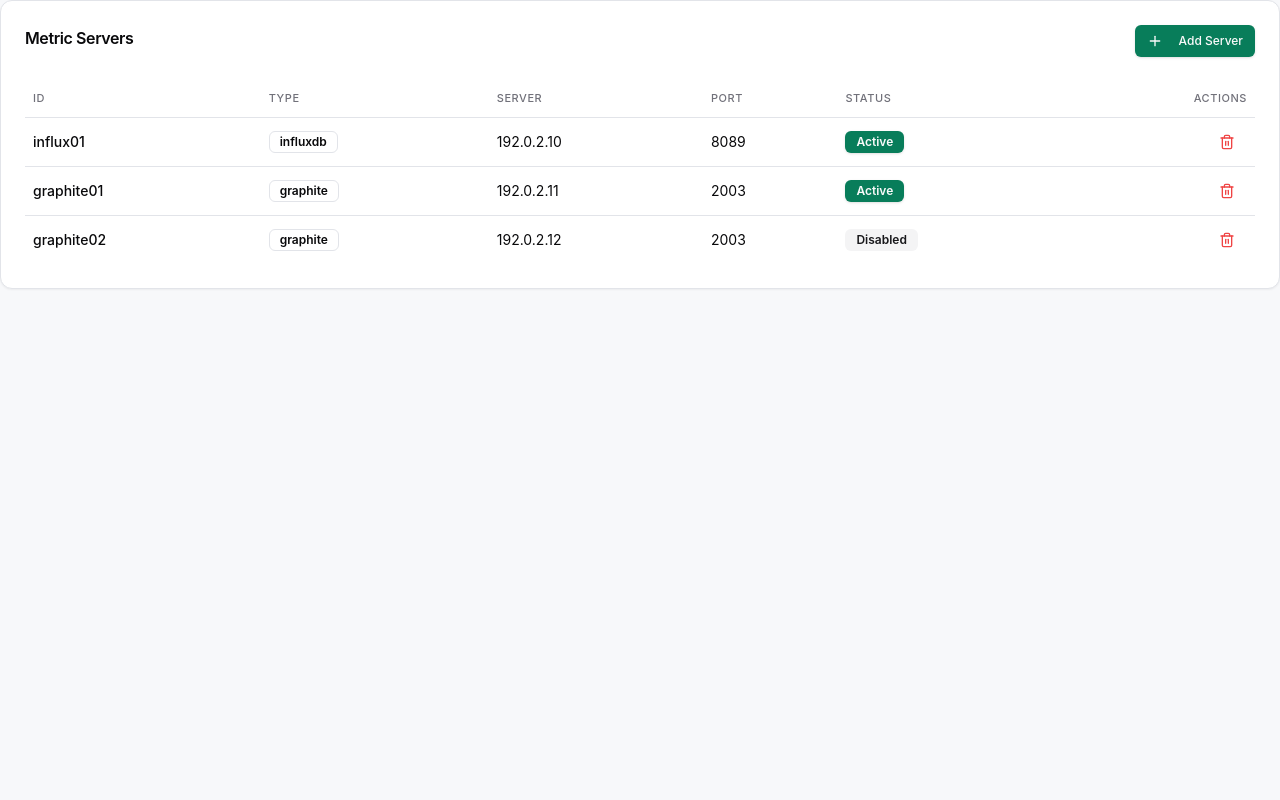
Test: ClusterMetricServersTab — deleting a server › sends nothing on Cancel
Click the button named "Delete graphite01". click: {"x": 1227, "y": 190}
box: x1=1207 y1=174 x2=1247 y2=206
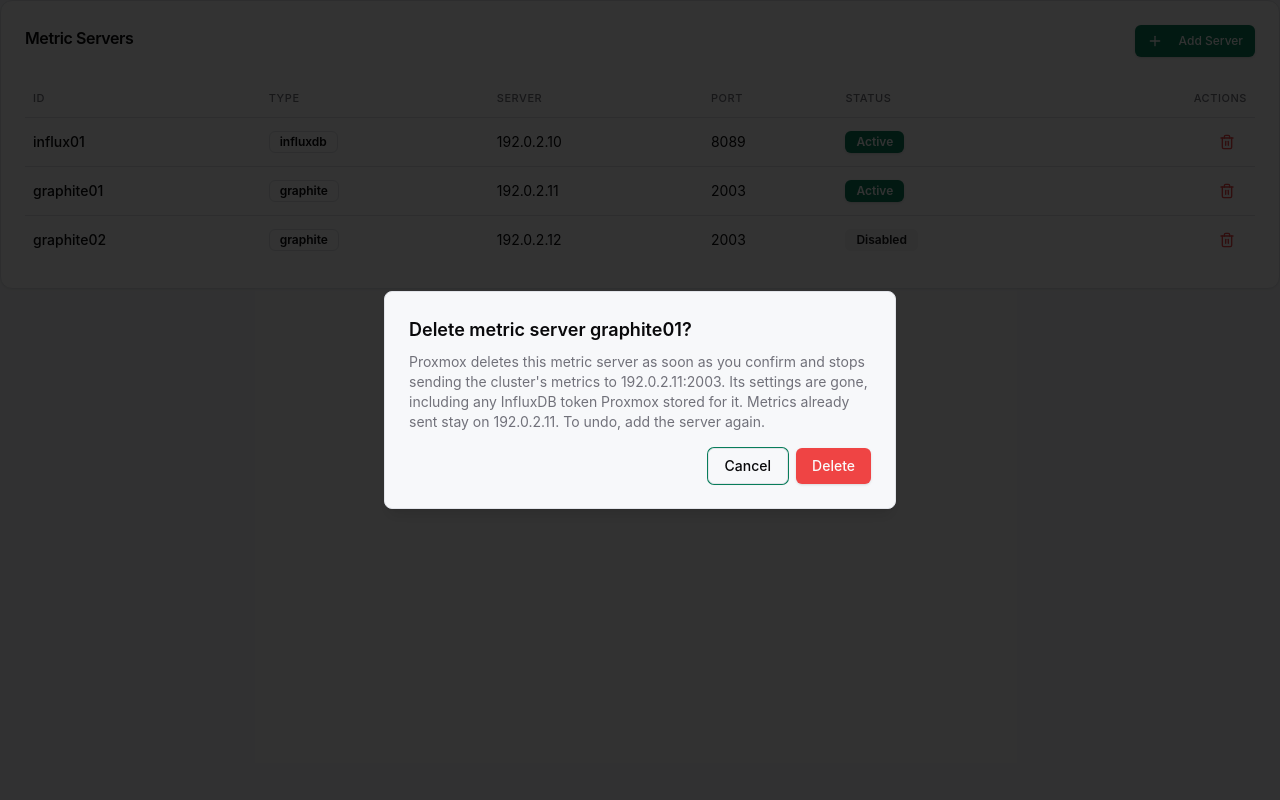
Click the button "Cancel". click: {"x": 748, "y": 466}
box: x1=708 y1=448 x2=788 y2=484
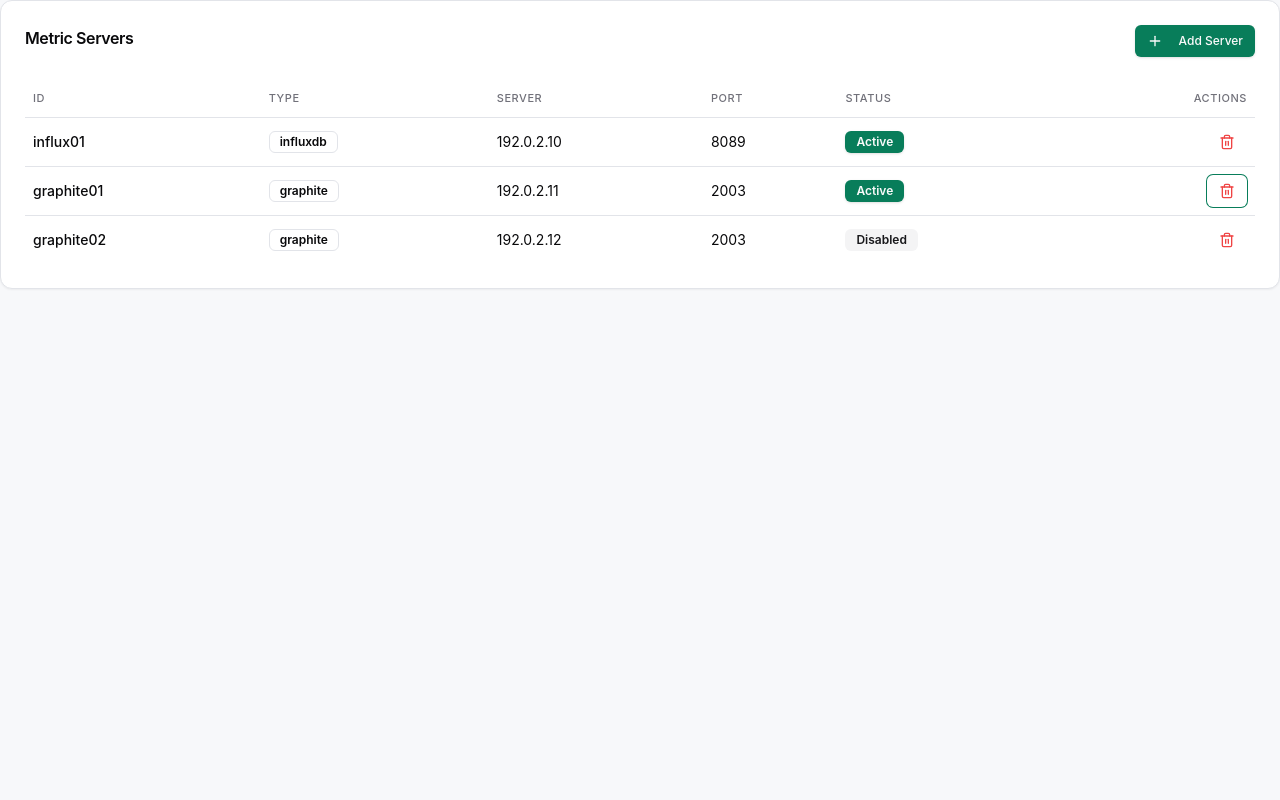
Expected: the dialog is gone
